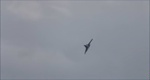maybay_muctieu: (83, 39, 93, 54)
